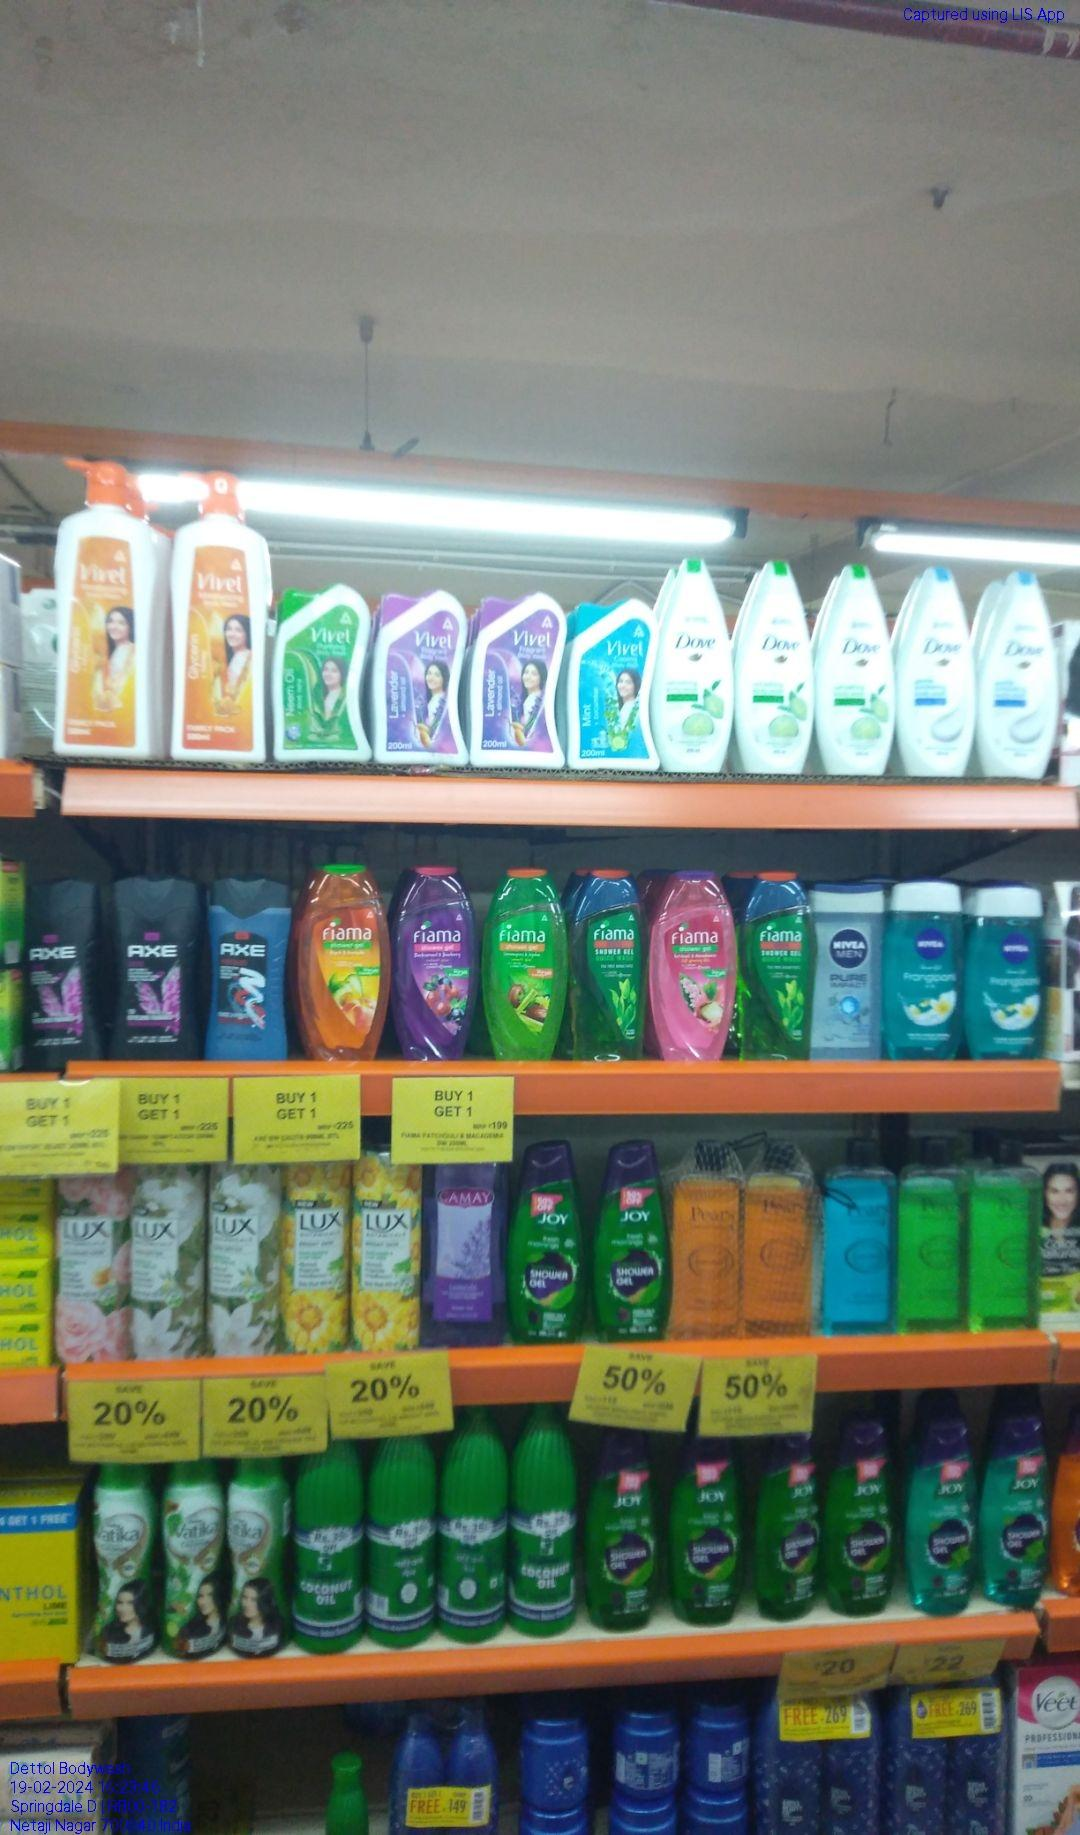Dove_Gentle_Exfoliating_Body_Wash_250ML: (976, 563, 1061, 777), (896, 563, 977, 776)
Dove_Refreshing_Body_Wash_250ML: (814, 555, 895, 776), (734, 558, 815, 775), (653, 558, 734, 772)
Fiama_Shower_Gel_Lemongrass_and_Jojoba_250ML: (481, 866, 570, 1060)
Fiama_Shower_Gel_Patchouli_and_Macadamia_250ML: (648, 865, 735, 1063)
Fiama_Shower_Gel_Peach_and_Avocado_250ML: (296, 861, 391, 1061)
Joy_Shower_Gel_Mint_and_Eucalyptus_250ML: (901, 1415, 977, 1620), (976, 1407, 1052, 1611)
Nivea_Shower_Gel_Frangipani_and_Oil_250ML: (882, 875, 964, 1061), (964, 878, 1047, 1058)
Pears_Pure_Glycerin_and_Lemon_Flower_Extracts_Body_Wash_250ML: (968, 1133, 1045, 1333), (894, 1136, 966, 1335)
Pears_Pure_Glycerin_and_Mint_Extracts_Body_Wash_250ML: (820, 1139, 896, 1339)
